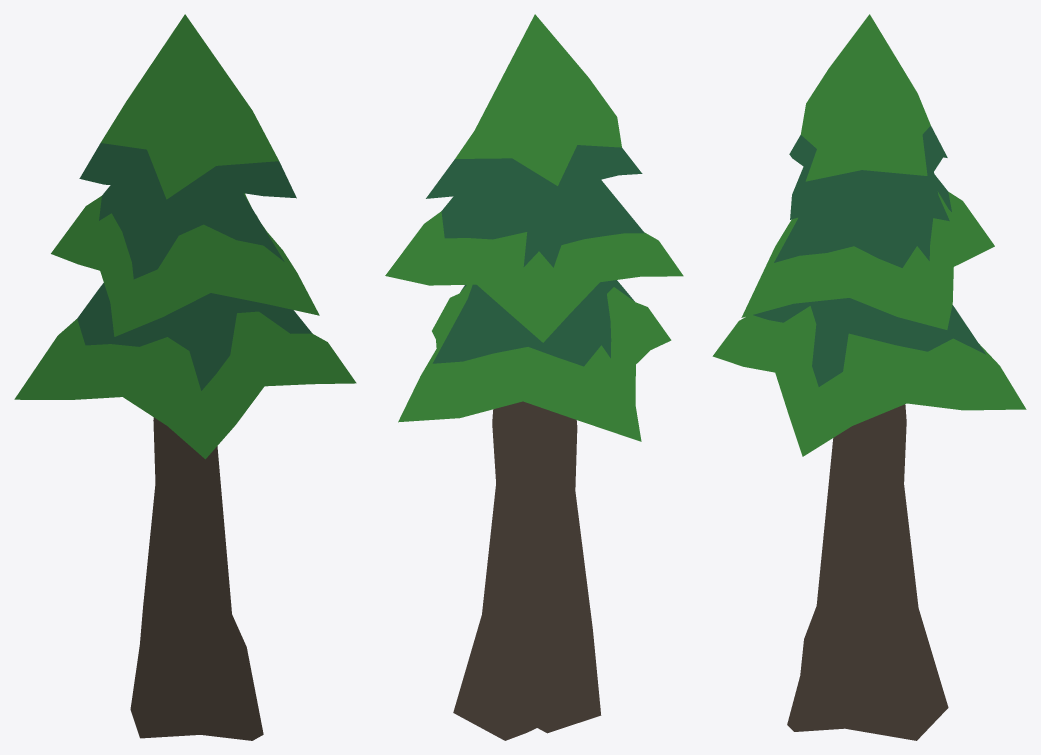
The model's file is pine_small_01.dae.
3 renders of one model, left to right at view 1: azimuth 30°, elevation 25°; view 2: azimuth 150°, elevation 25°; view 3: azimuth 270°, elevation 25°, orthographic.
Parts seen in each view (by area): view 1: pine_small_01-0; view 2: pine_small_01-0; view 3: pine_small_01-0.
Part boxes in pixels (bbox=[...]): pine_small_01-0: bbox=[14, 14, 356, 740]; pine_small_01-0: bbox=[385, 14, 683, 740]; pine_small_01-0: bbox=[712, 14, 1026, 740].
Size of the model in its own units: 3.24 by 7.85 by 3.2.
